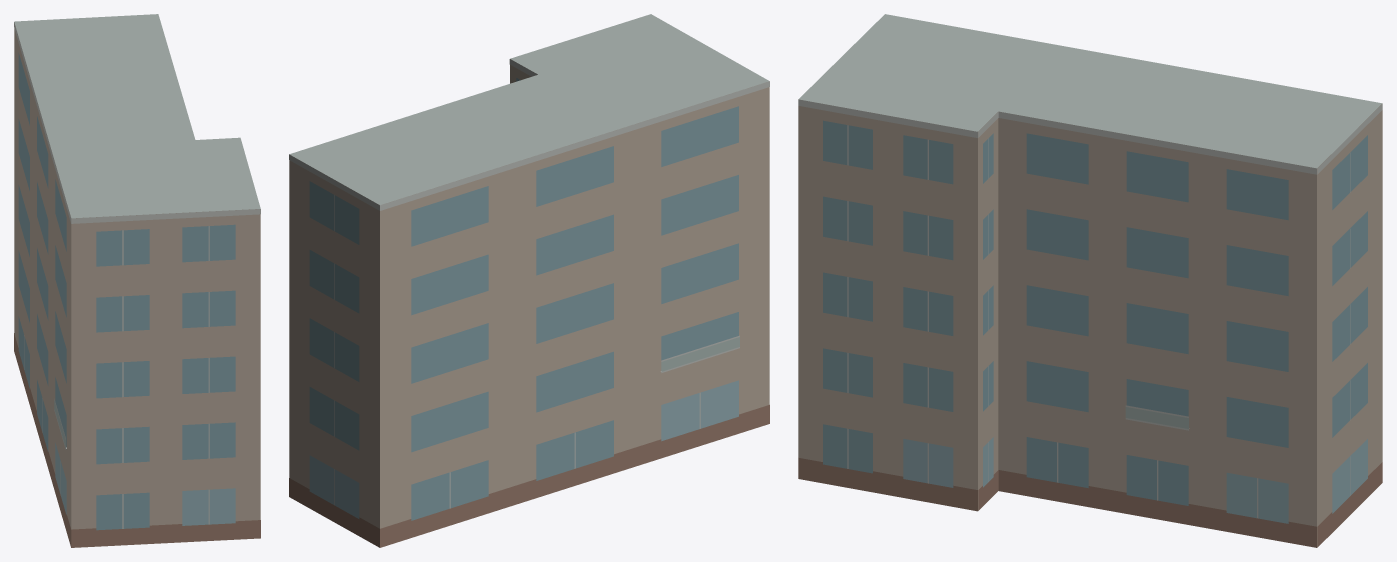
The model's file is survey-upis-32534427.glb.
The picture shows the model from 3 angles, left to right: view 1: azimuth 30°, elevation 25°; view 2: azimuth 150°, elevation 25°; view 3: azimuth 270°, elevation 25°; orthographic projection. The views are drawn at different scales.
Parts seen in each view (by area): view 1: survey-upis-32534427.tmp; view 2: survey-upis-32534427.tmp; view 3: survey-upis-32534427.tmp.
Boxes of the visible parts, x1=… form: survey-upis-32534427.tmp: x1=14, y1=14, x2=260, y2=547; survey-upis-32534427.tmp: x1=289, y1=14, x2=769, y2=547; survey-upis-32534427.tmp: x1=798, y1=14, x2=1382, y2=547.
Bounding box in the file's own units: 12.66 × 14.5 × 20.24.
